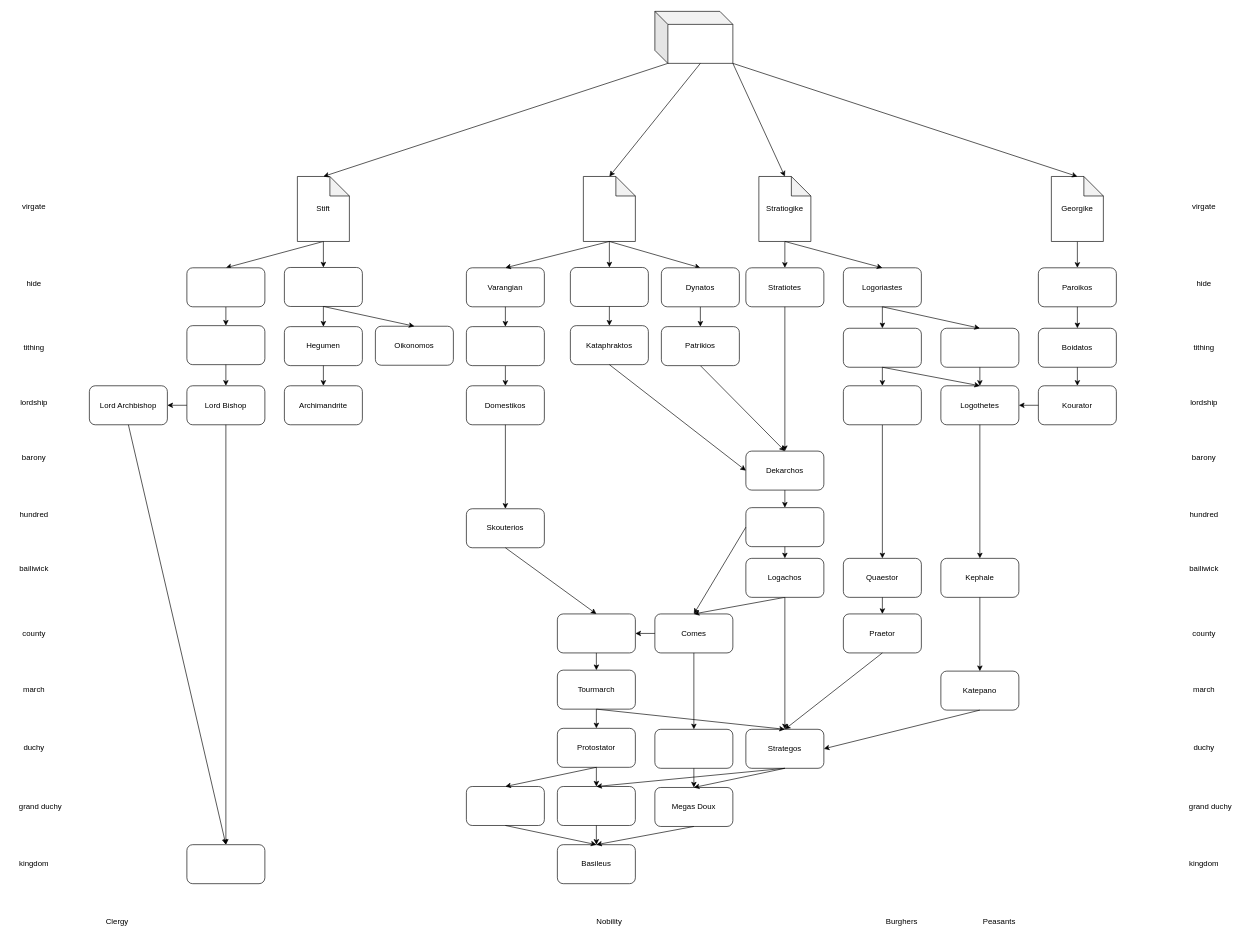
This 1251x939 diagram has some shape labels left out. Here are the shapes that lost their labels. From the top down, the centre of each, then its label:
At (x=693, y=37): "Byzantine Manor".
At (x=609, y=208): "Pronoia".
At (x=225, y=287): "Acolyte".
At (x=323, y=286): "Monk".
At (x=609, y=286): "Kavallarios".
At (x=225, y=345): "Priest".
At (x=505, y=346): "Spatharios".
At (x=882, y=347): "Sakellarios".
At (x=979, y=347): "Horeiarios".
At (x=882, y=405): "Koubikoularios".
At (x=784, y=527): "Kentarchos".
At (x=596, y=633): "Droungarios".
At (x=693, y=748): "Doux".
At (x=505, y=806): "Megas Domestikos".
At (x=596, y=806): "Despot".
At (x=225, y=864): "Patriarch".
